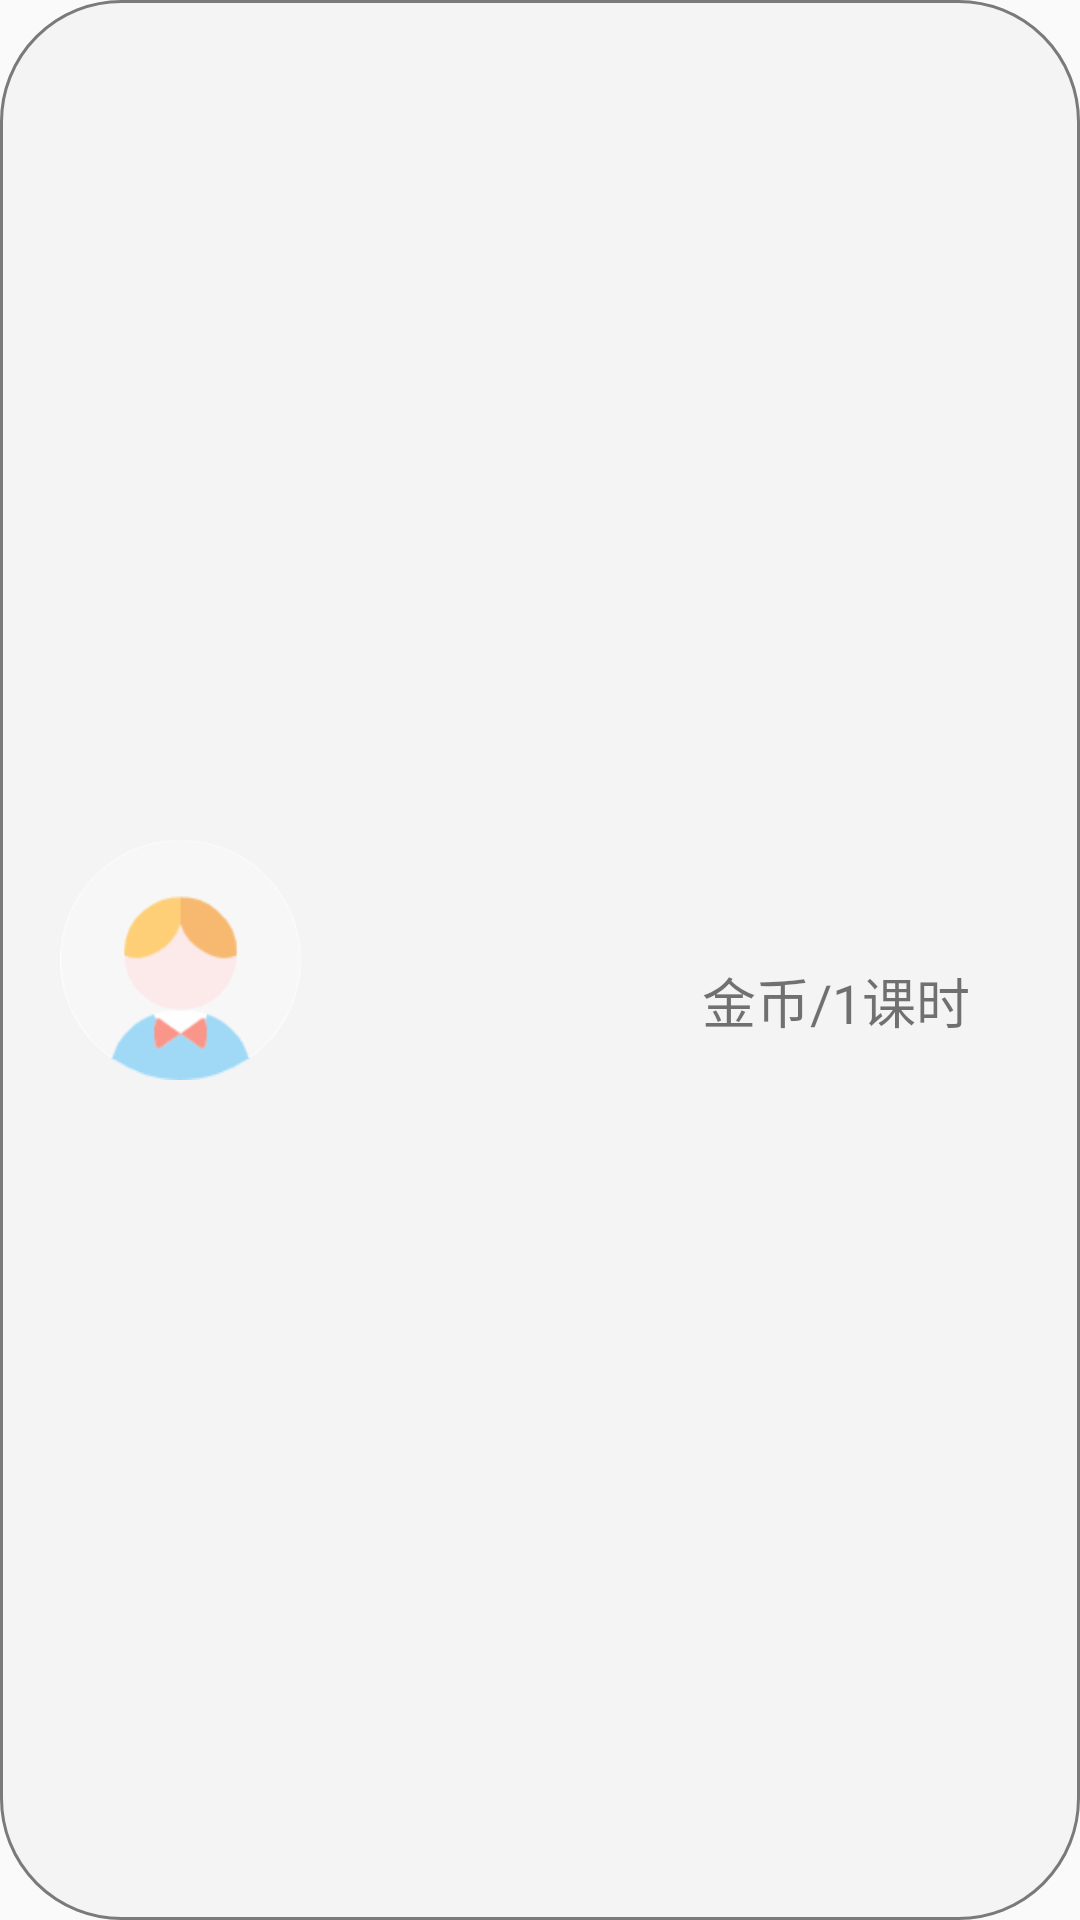

Where icons sit on this 1080x1920 app screen, as bbox(x1, y1, x2, y2):
headportrait: bbox(111, 896, 250, 1080)
